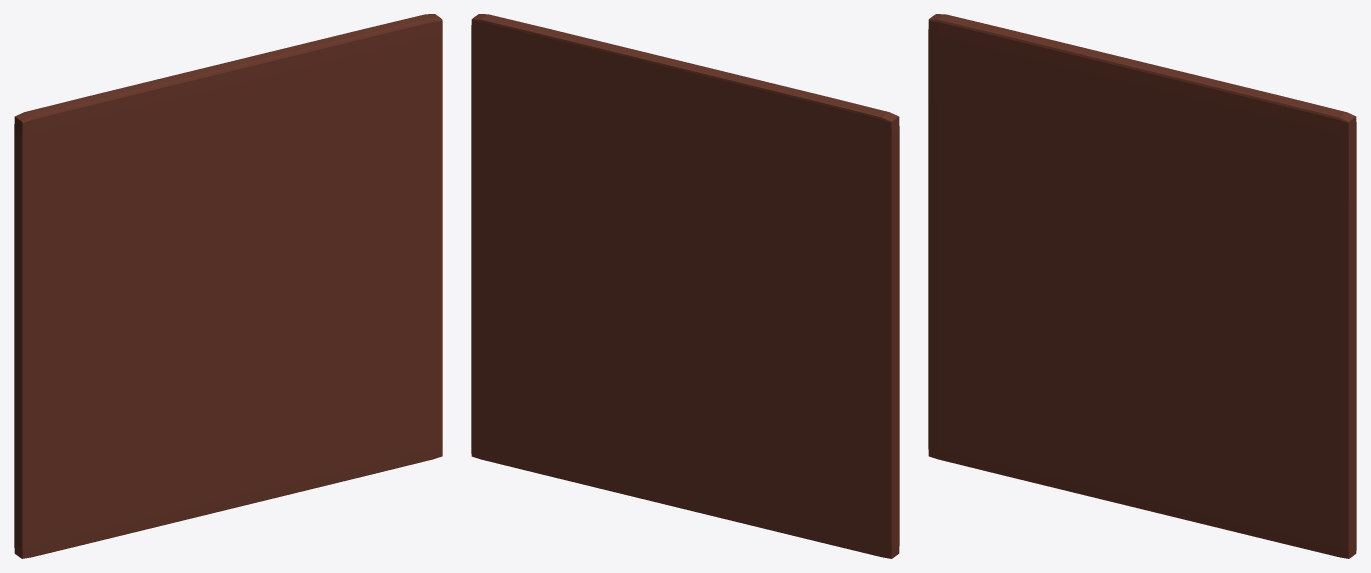
File: Platform.fbx
3 views of the same model, side by side, from view 1: azimuth 30°, elevation 25°; view 2: azimuth 150°, elevation 25°; view 3: azimuth 330°, elevation 25° (orthographic).
Visible parts, largest first — view 1: Platform; view 2: Platform; view 3: Platform.
Part boxes in pixels (x1=…): Platform: x1=14, y1=14, x2=442, y2=558; Platform: x1=471, y1=14, x2=899, y2=558; Platform: x1=928, y1=14, x2=1356, y2=558.
Size of the model in its own units: 450 by 450 by 15.
